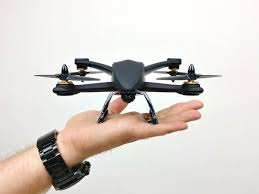Drone: (37, 47, 224, 130)
